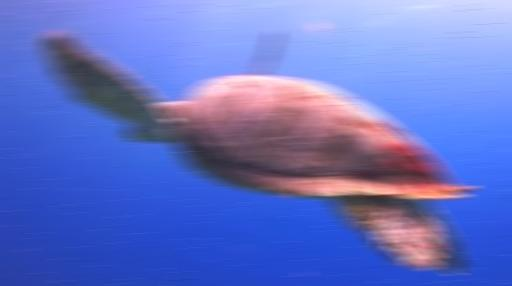Fish: (43, 30, 472, 273)
